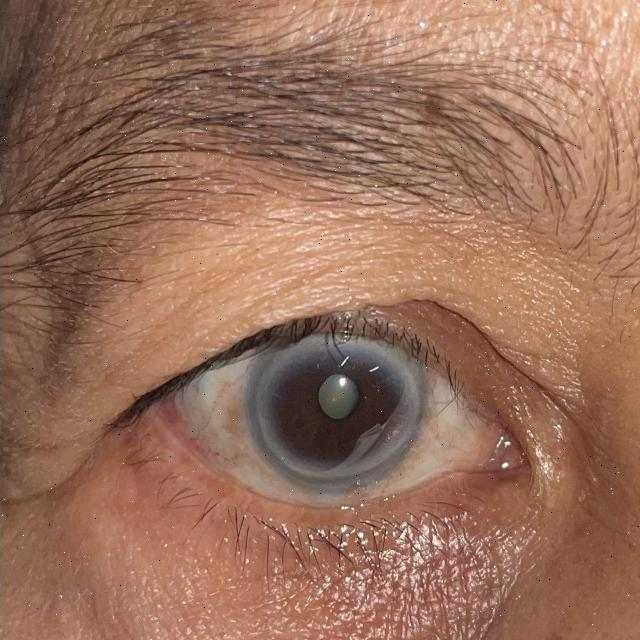Cataract: (250, 322, 418, 492)
